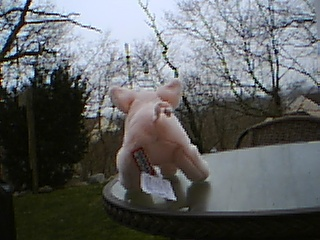piggy: (109, 77, 212, 193)
